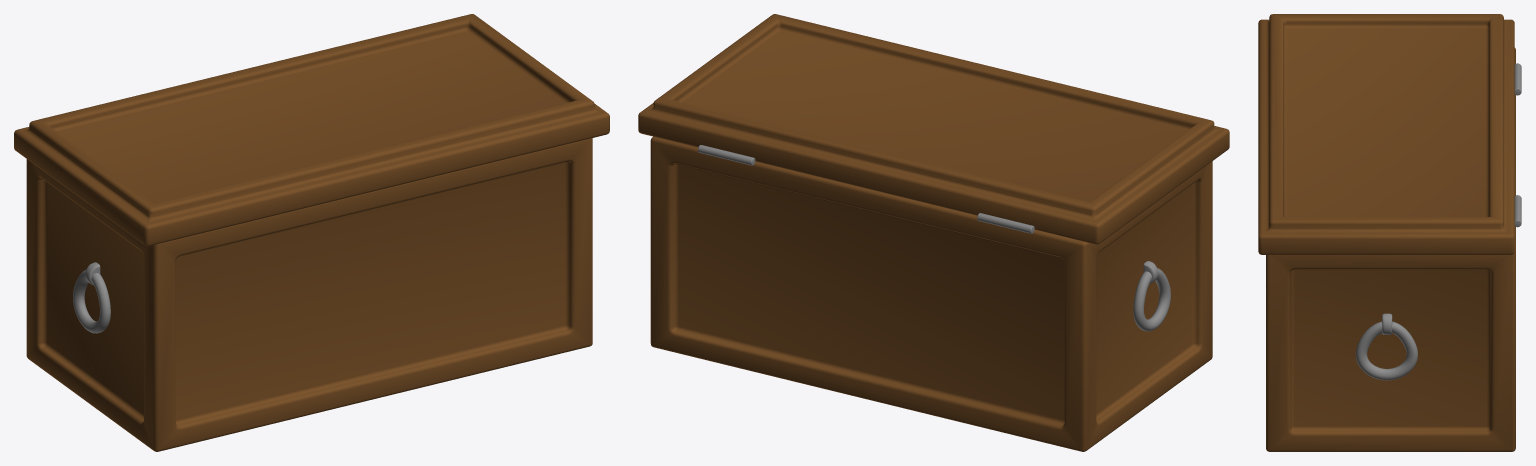
Rendered from SM_Chest_2_MSize.fbx.
3 views of the same model, side by side, from view 1: azimuth 30°, elevation 25°; view 2: azimuth 150°, elevation 25°; view 3: azimuth 270°, elevation 25° (orthographic). The views are drawn at different scales.
Parts seen in each view (by area): view 1: Chest_01, Metal.004; view 2: Chest_01, Metal.004; view 3: Chest_01, Metal.004.
Boxes of the visible parts, bbox=[...] form: Chest_01: bbox=[14, 14, 609, 451]; Metal.004: bbox=[73, 262, 110, 333]; Chest_01: bbox=[638, 14, 1229, 451]; Metal.004: bbox=[698, 145, 1170, 331]; Chest_01: bbox=[1258, 14, 1515, 451]; Metal.004: bbox=[1355, 63, 1521, 380].
Size of the model in its own units: 100 by 50 by 51.12.
